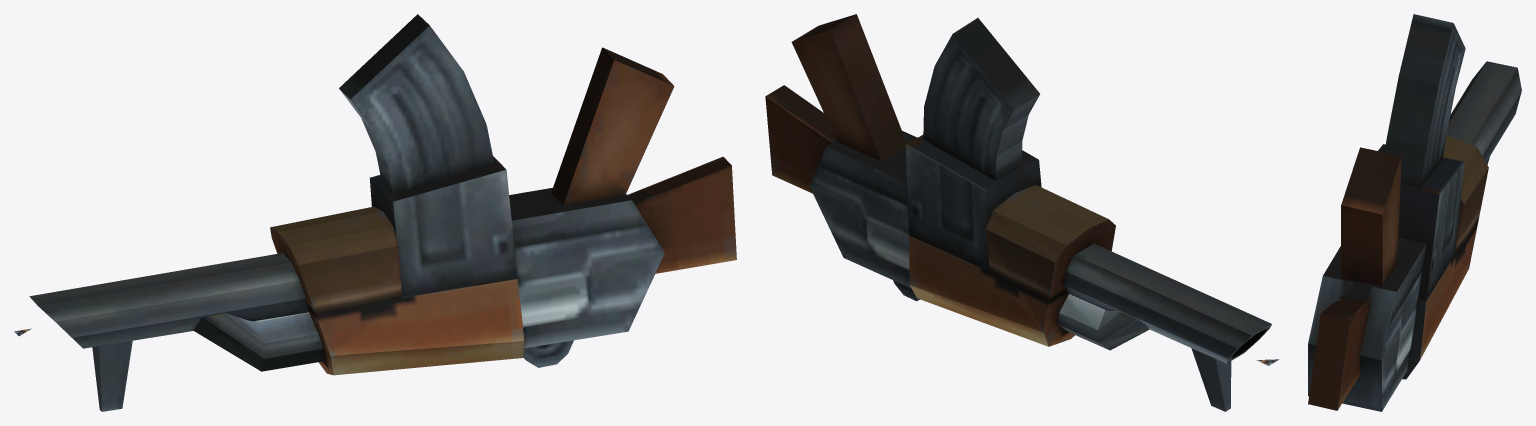
The model's file is TRIFLE.bgf.obj.
3 renders of one model, left to right at view 1: azimuth 30°, elevation 25°; view 2: azimuth 150°, elevation 25°; view 3: azimuth 270°, elevation 25°, orthographic. The views are drawn at different scales.
Visible parts, largest first — view 1: BARREL; view 2: BARREL; view 3: BARREL.
Part boxes in pixels (x1=…): BARREL: x1=29, y1=14, x2=736, y2=411; BARREL: x1=765, y1=14, x2=1271, y2=411; BARREL: x1=1308, y1=14, x2=1521, y2=411.
Size of the model in its own units: 1.05 by 0.543 by 0.304.
2 materials, 2 textured.
